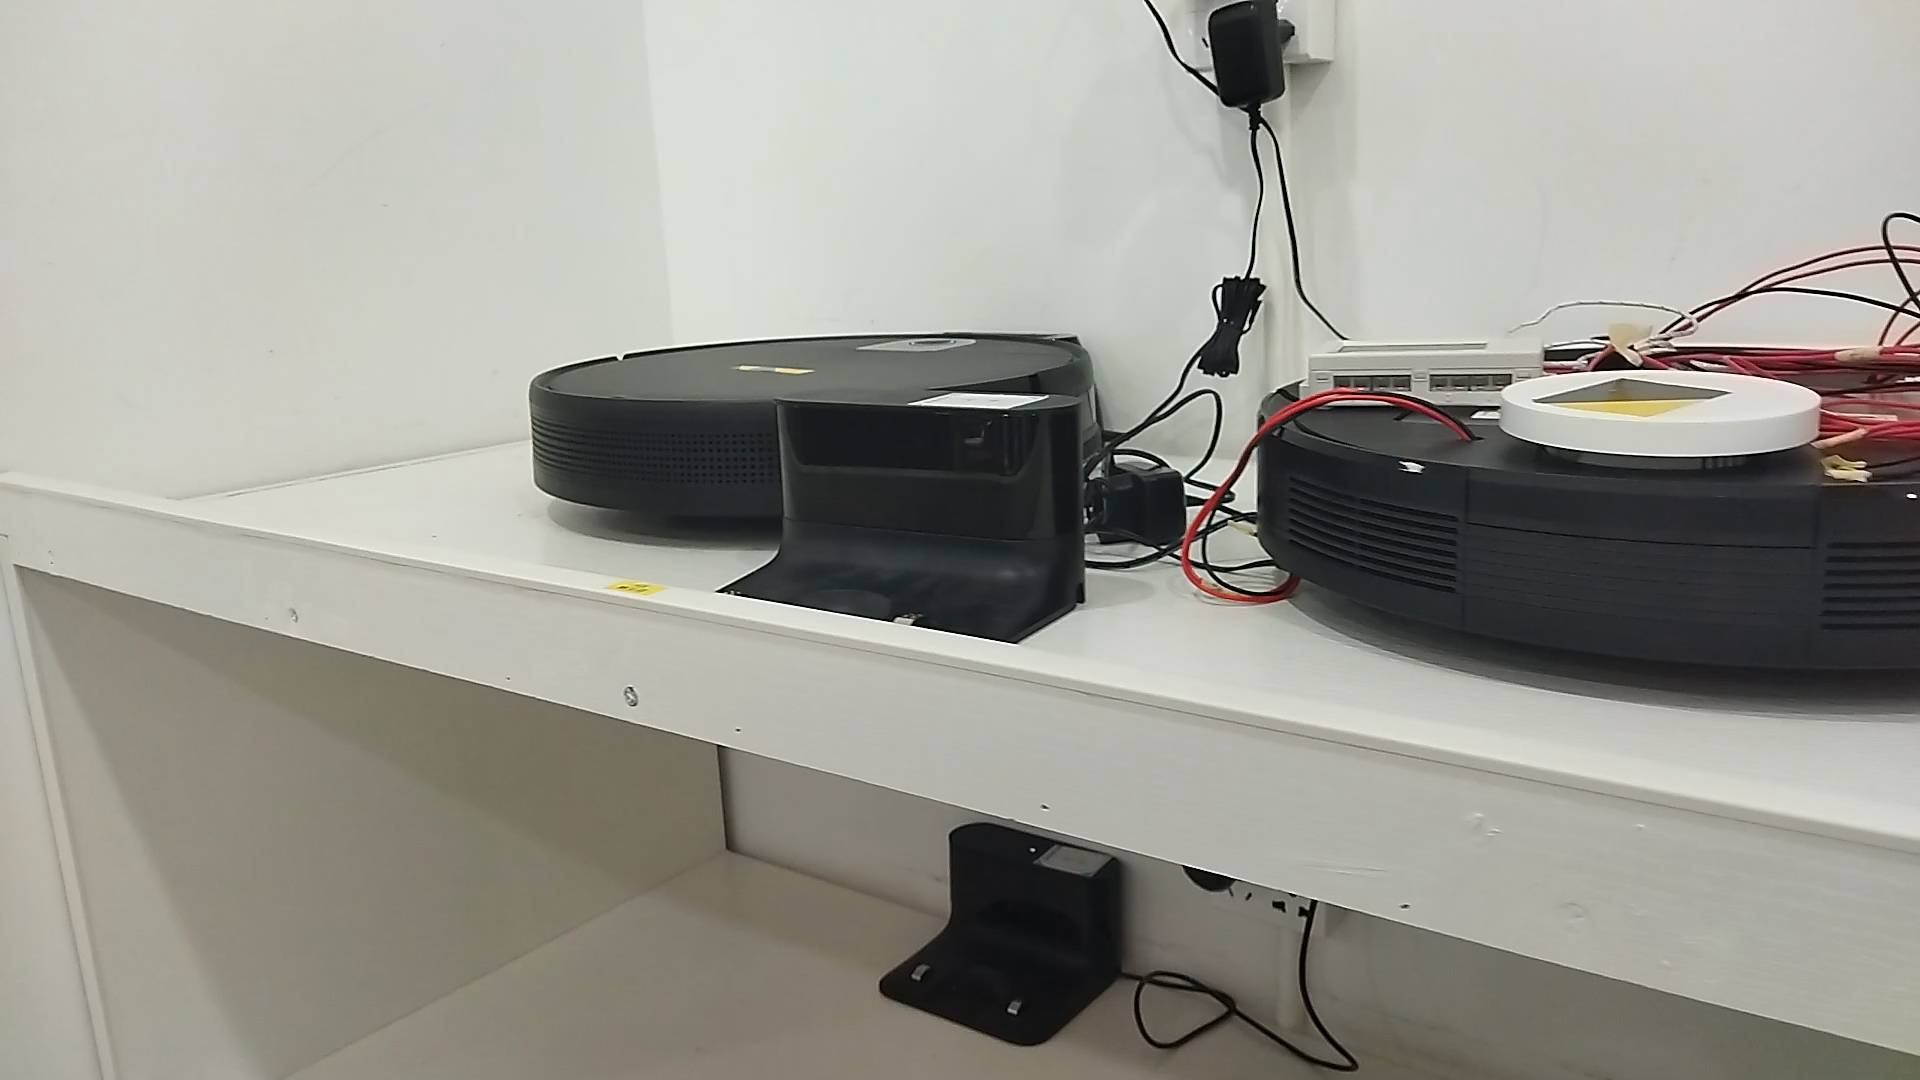recharge seat: (713, 382, 1087, 645), (880, 822, 1130, 1047)
